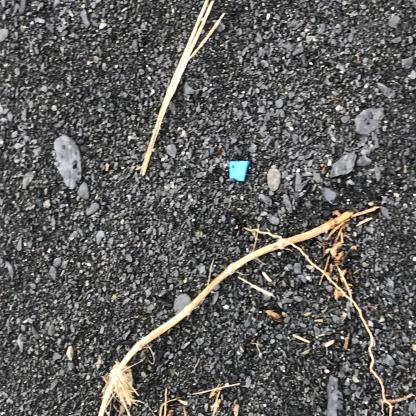trash: (170, 297, 202, 346)
